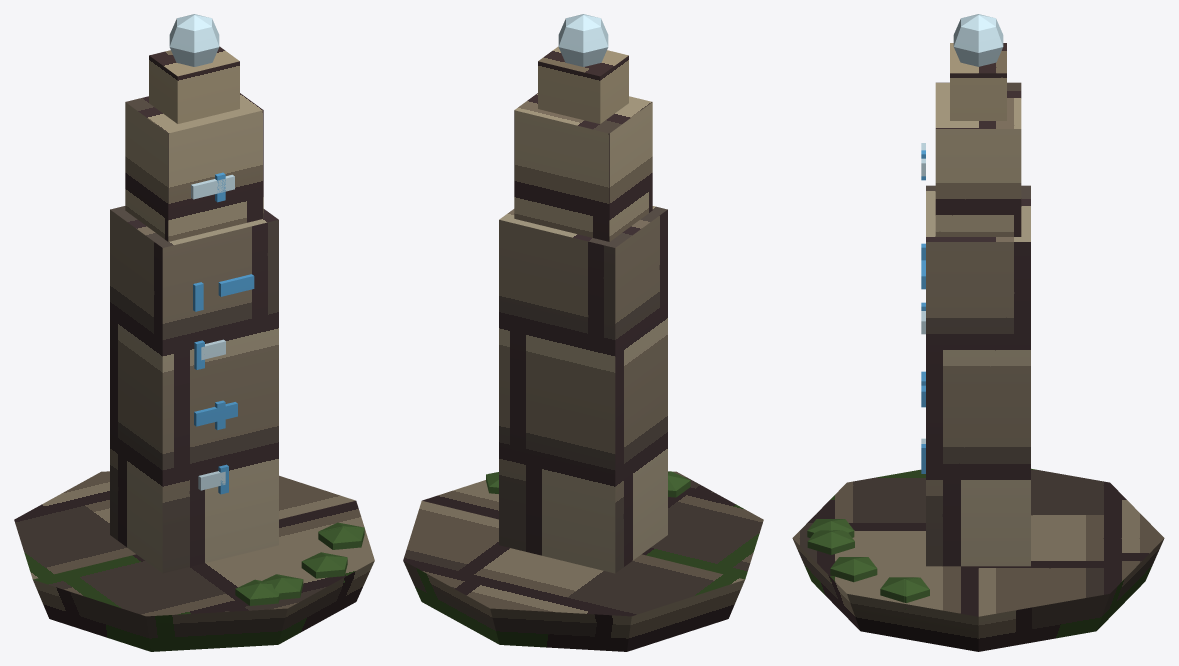
Rendered from waystone.glb.
3 renders of one model, left to right at view 1: azimuth 30°, elevation 25°; view 2: azimuth 150°, elevation 25°; view 3: azimuth 270°, elevation 25°, orthographic.
Visible parts, largest first — view 1: waystone; view 2: waystone; view 3: waystone.
Boxes of the visible parts, x1=… form: waystone: x1=14, y1=14, x2=374, y2=651; waystone: x1=403, y1=14, x2=763, y2=651; waystone: x1=792, y1=14, x2=1164, y2=651.
Bounding box in the file's own units: 1.56 × 2.62 × 1.56.
Materials: 3 (1 with a texture image).
